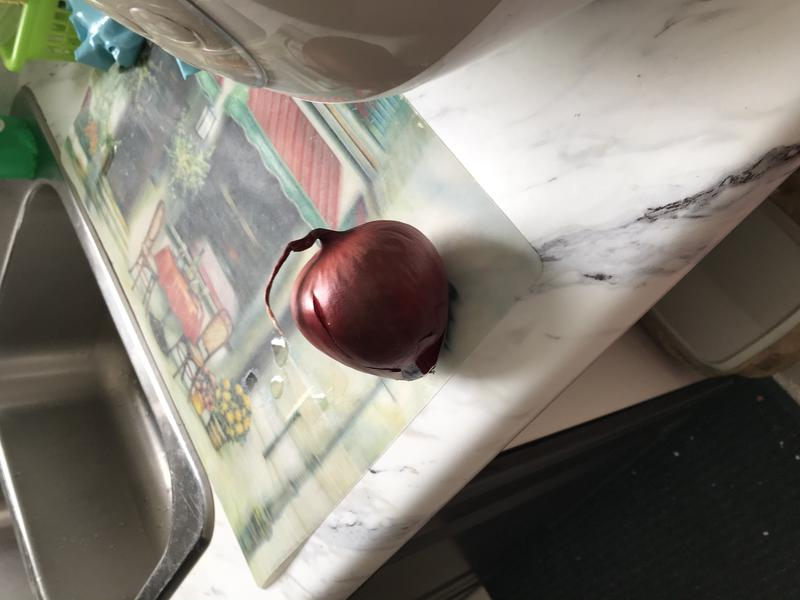purple_onion: (253, 211, 453, 396)
